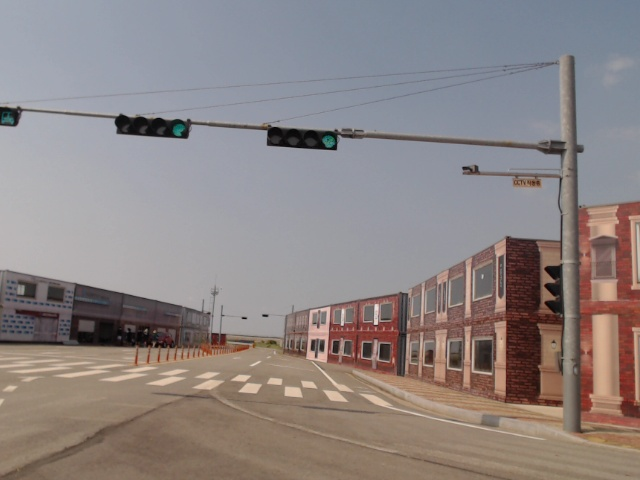straight_green_4: (116, 113, 191, 140), (267, 127, 338, 151)
